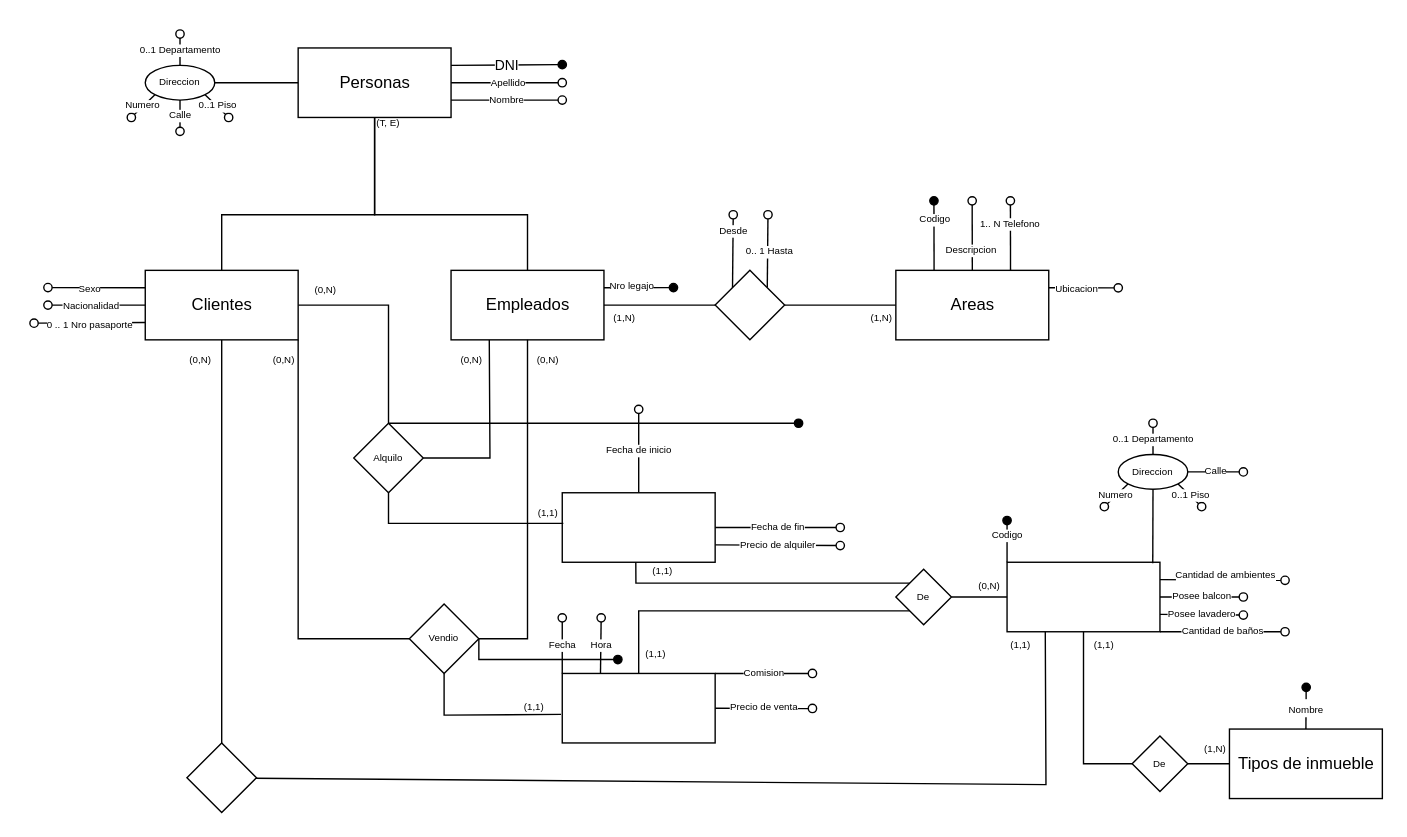
The diagram is 1407 pixels wide and 837 high, and some of its shapes have lost their labels. Here are the shapes that lost their labels. From the top down, the centre of each, then its label:
At (749,304): "Trabaja".
At (638,526): "Alquileres".
At (1083,596): "Inmuebles".
At (638,707): "Ventas".
At (221,777): "Es dueño".
